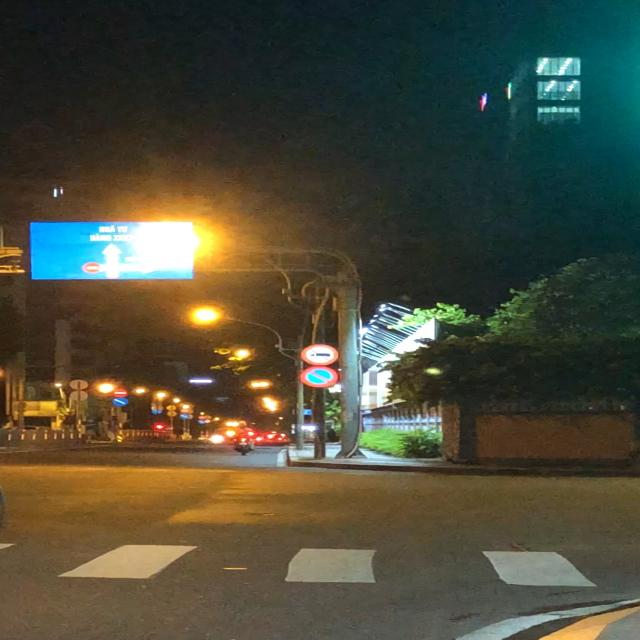Bien bao cam do xe: (297, 365, 344, 391)
Bien bao cam xe so-mi ro-mooc: (294, 340, 346, 364)
